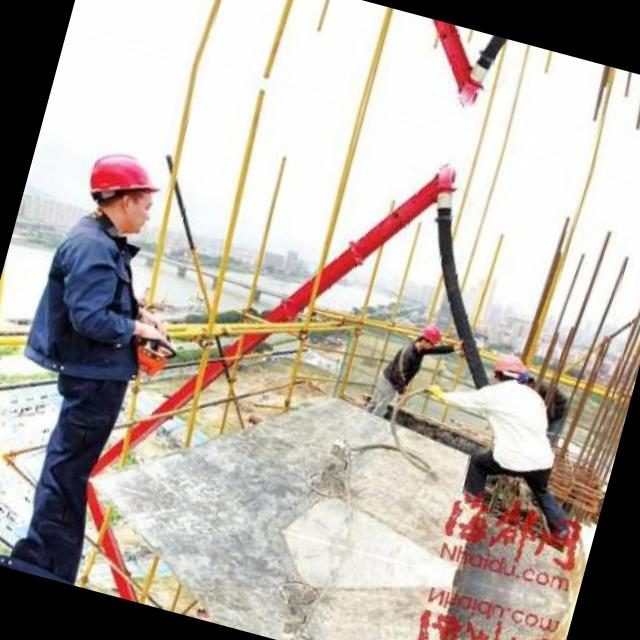helmet: (71, 132, 176, 240), (484, 350, 536, 392), (410, 315, 446, 354)
